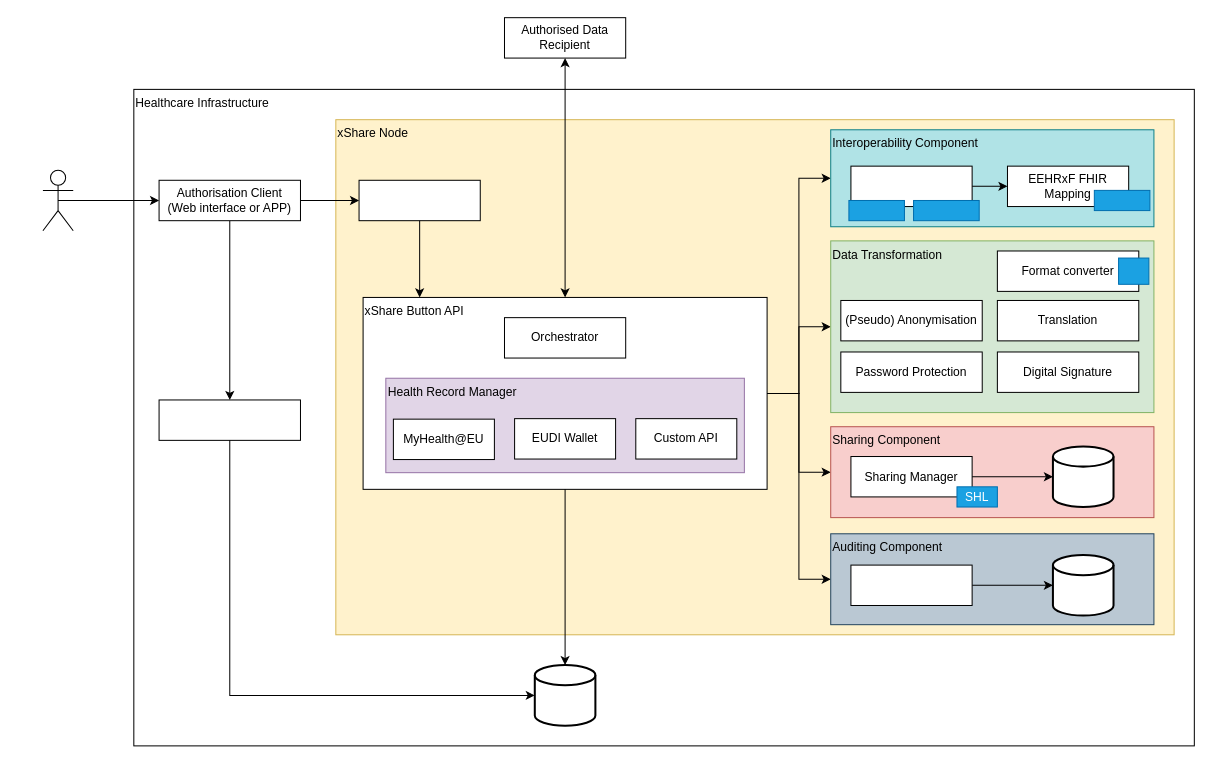
Image size: 1212x764. Some labels were removed from this diagram. Each missing label, with the centre of its shape:
"Cache" belongs at point (1082, 476).
"CDA2FHIR" belongs at point (1121, 200).
"EEHRxF valid" belongs at point (946, 210).
"FHIR PDF" belongs at point (1133, 270).
"FHIR valid" belongs at point (876, 210).
"HIE" belongs at point (564, 695).
"Logging" belongs at point (911, 584).
"Natural Person" belongs at point (57, 200).
"Storage" belongs at point (1082, 584).
"Upload" belongs at point (229, 419).
"Validator" belongs at point (911, 186).
"Visualisation" belongs at point (419, 200).
